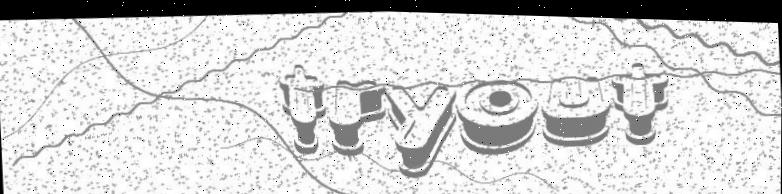o: (455, 74, 542, 156)
r: (326, 75, 388, 155)
t: (611, 57, 671, 141), (278, 62, 329, 153)
u: (540, 71, 613, 145)
y: (384, 80, 460, 177)
